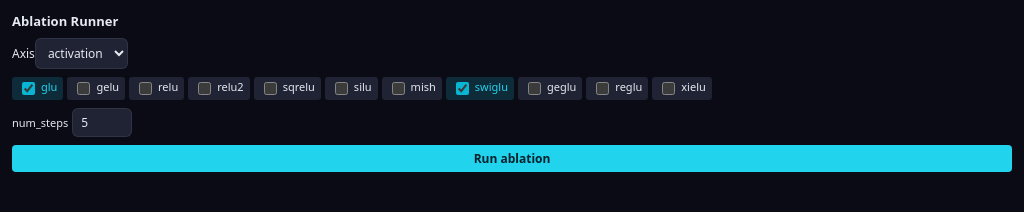
Test: AblationsTab › Run on empty canvas surfaces error
Step 1. Click the button with test id "ablation-run" → (512, 158), box [12,145,1012,172]
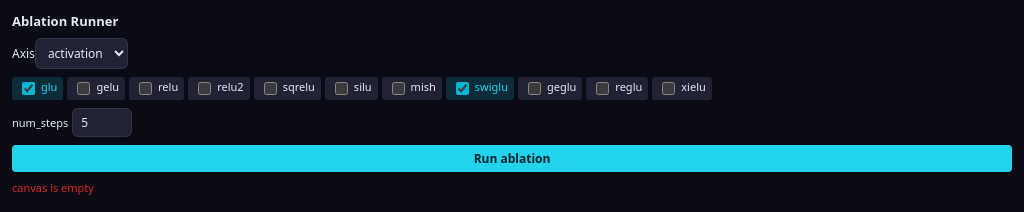
Expected: the text with test id "ablation-error" shows "empty", [12,180,94,195]
